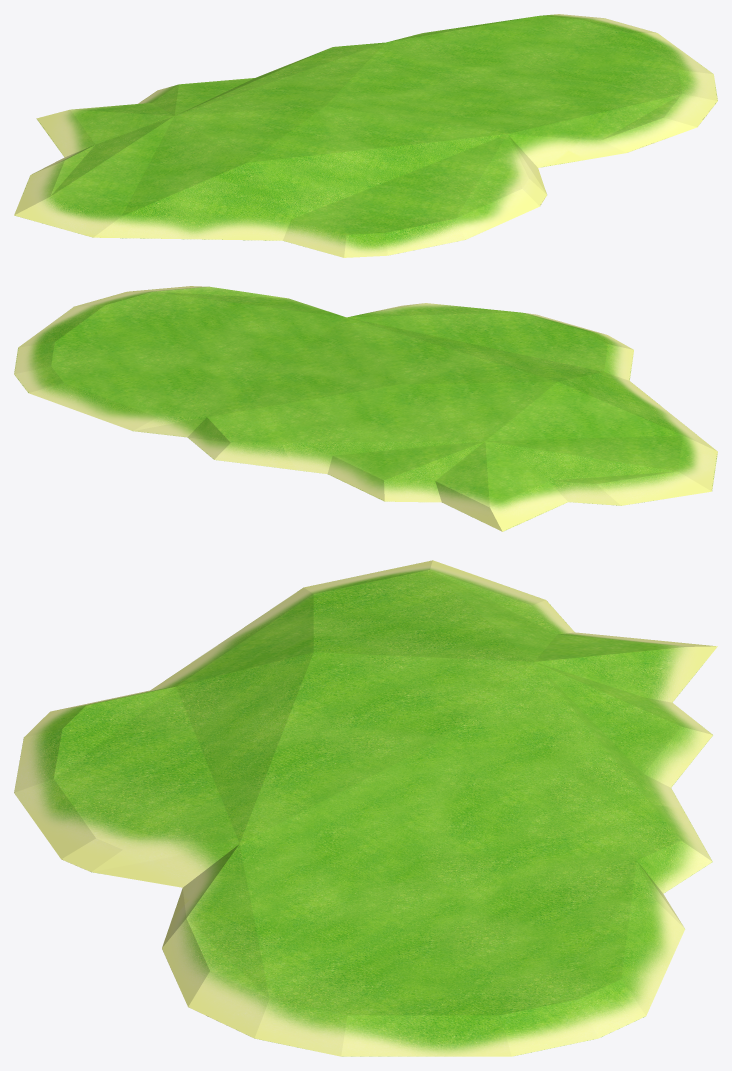
The model's file is isla.obj.
The picture shows the model from 3 angles, top to bottom: view 1: azimuth 30°, elevation 25°; view 2: azimuth 150°, elevation 25°; view 3: azimuth 270°, elevation 25°; orthographic projection. The views are drawn at different scales.
Parts seen in each view (by area): view 1: Cylinder; view 2: Cylinder; view 3: Cylinder.
Part boxes in pixels (left/top/right/bottom): Cylinder: left=14, top=14, right=717, bottom=257; Cylinder: left=14, top=286, right=717, bottom=531; Cylinder: left=14, top=560, right=717, bottom=1056.
Size of the model in its own units: 1715 by 83.51 by 1028.
Materials: 1 (1 with a texture image).
